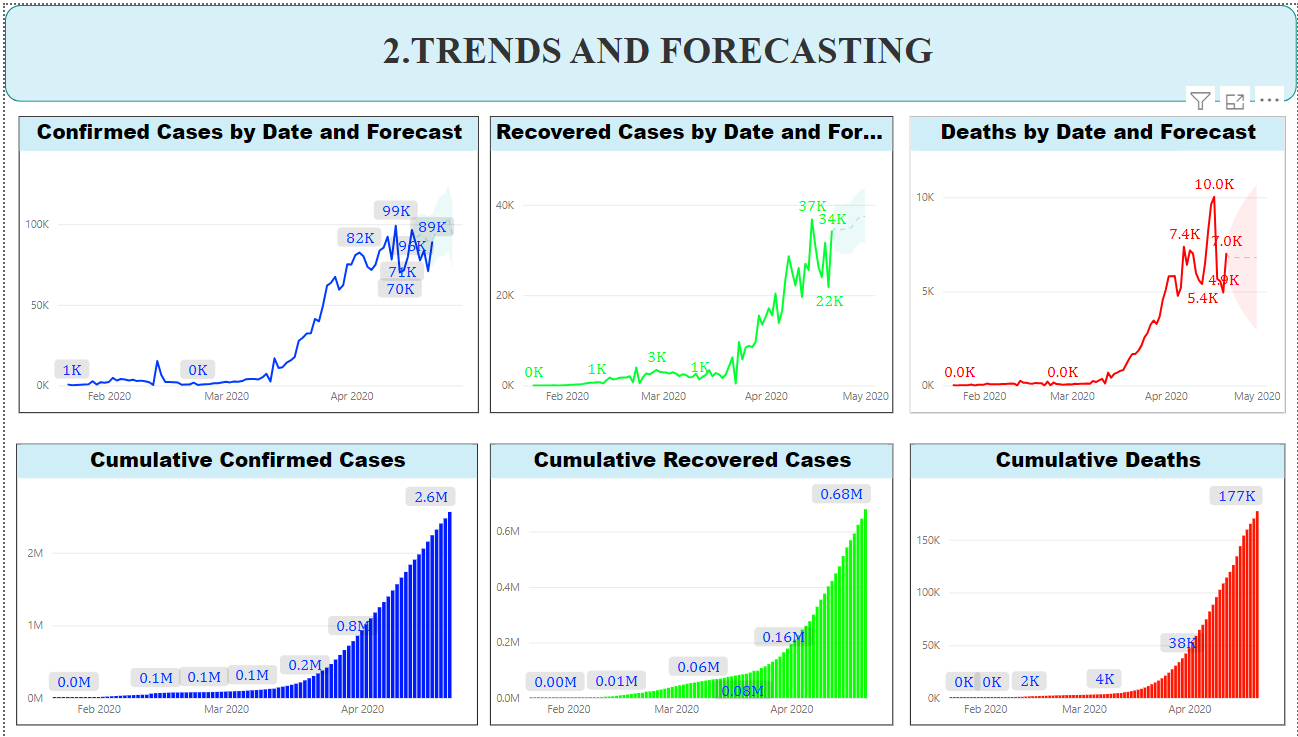

The dashboard page shown, as its layout file describes it:
{"tool":"powerbi","page":{"name":"Page 2","canvas":[1292,732],"ordinal":1},"visuals":[{"type":"shape","box":[0,0,1291.7,96.7],"z":0},{"type":"textbox","box":[13.3,0,1278.3,96.7],"z":1000},{"type":"textbox","box":[0,564,1280,150],"z":2000},{"type":"lineChart","title":"Confirmed Cases by Date and Forecast","fields":{"Category":["CoronaVirus PowerBI Raw (2).Date"],"Y":["Sum(CoronaVirus PowerBI Raw (2).Confirmed Daily)"]},"box":[13.3,111.7,460,296.7],"z":3000},{"type":"lineChart","title":"Recovered Cases by Date and Forecast","fields":{"Category":["CoronaVirus PowerBI Raw (2).Date"],"Y":["Sum(CoronaVirus PowerBI Raw (2).Recovered Daily)"]},"box":[485,111.7,403.3,296.7],"z":4000},{"type":"lineChart","title":"Deaths by Date and Forecast","fields":{"Category":["CoronaVirus PowerBI Raw (2).Date"],"Y":["Sum(CoronaVirus PowerBI Raw (2).Deaths Daily)"]},"box":[905,111.7,375,296.7],"z":5000},{"type":"columnChart","title":"Cumulative Confirmed Cases","fields":{"Category":["CoronaVirus PowerBI Raw (2).Date"],"Y":["Sum(CoronaVirus PowerBI Raw (2).Confirmed)"]},"box":[11.7,438.3,461.7,281.7],"z":6000},{"type":"columnChart","title":"Cumulative Recovered Cases","fields":{"Category":["CoronaVirus PowerBI Raw (2).Date"],"Y":["Sum(CoronaVirus PowerBI Raw (2).Recovered)"]},"box":[485,438.3,403.3,281.7],"z":7000},{"type":"columnChart","title":"Cumulative Deaths","fields":{"Category":["CoronaVirus PowerBI Raw (2).Date"],"Y":["Sum(CoronaVirus PowerBI Raw (2).Deaths)"]},"box":[905,438.3,375,281.7],"z":8000}]}

Visuals, with their boxes in screenshot pixels (x1, y1, x2, y2), scaled from the page's 1292x732 canvas onto the 1298x737 screenshot:
shape: box(0, 0, 1297, 97)
textbox: box(13, 0, 1297, 97)
textbox: box(0, 568, 1286, 719)
"Confirmed Cases by Date and Forecast" lineChart: box(13, 112, 475, 411)
"Recovered Cases by Date and Forecast" lineChart: box(487, 112, 892, 411)
"Deaths by Date and Forecast" lineChart: box(909, 112, 1286, 411)
"Cumulative Confirmed Cases" columnChart: box(12, 441, 476, 725)
"Cumulative Recovered Cases" columnChart: box(487, 441, 892, 725)
"Cumulative Deaths" columnChart: box(909, 441, 1286, 725)
